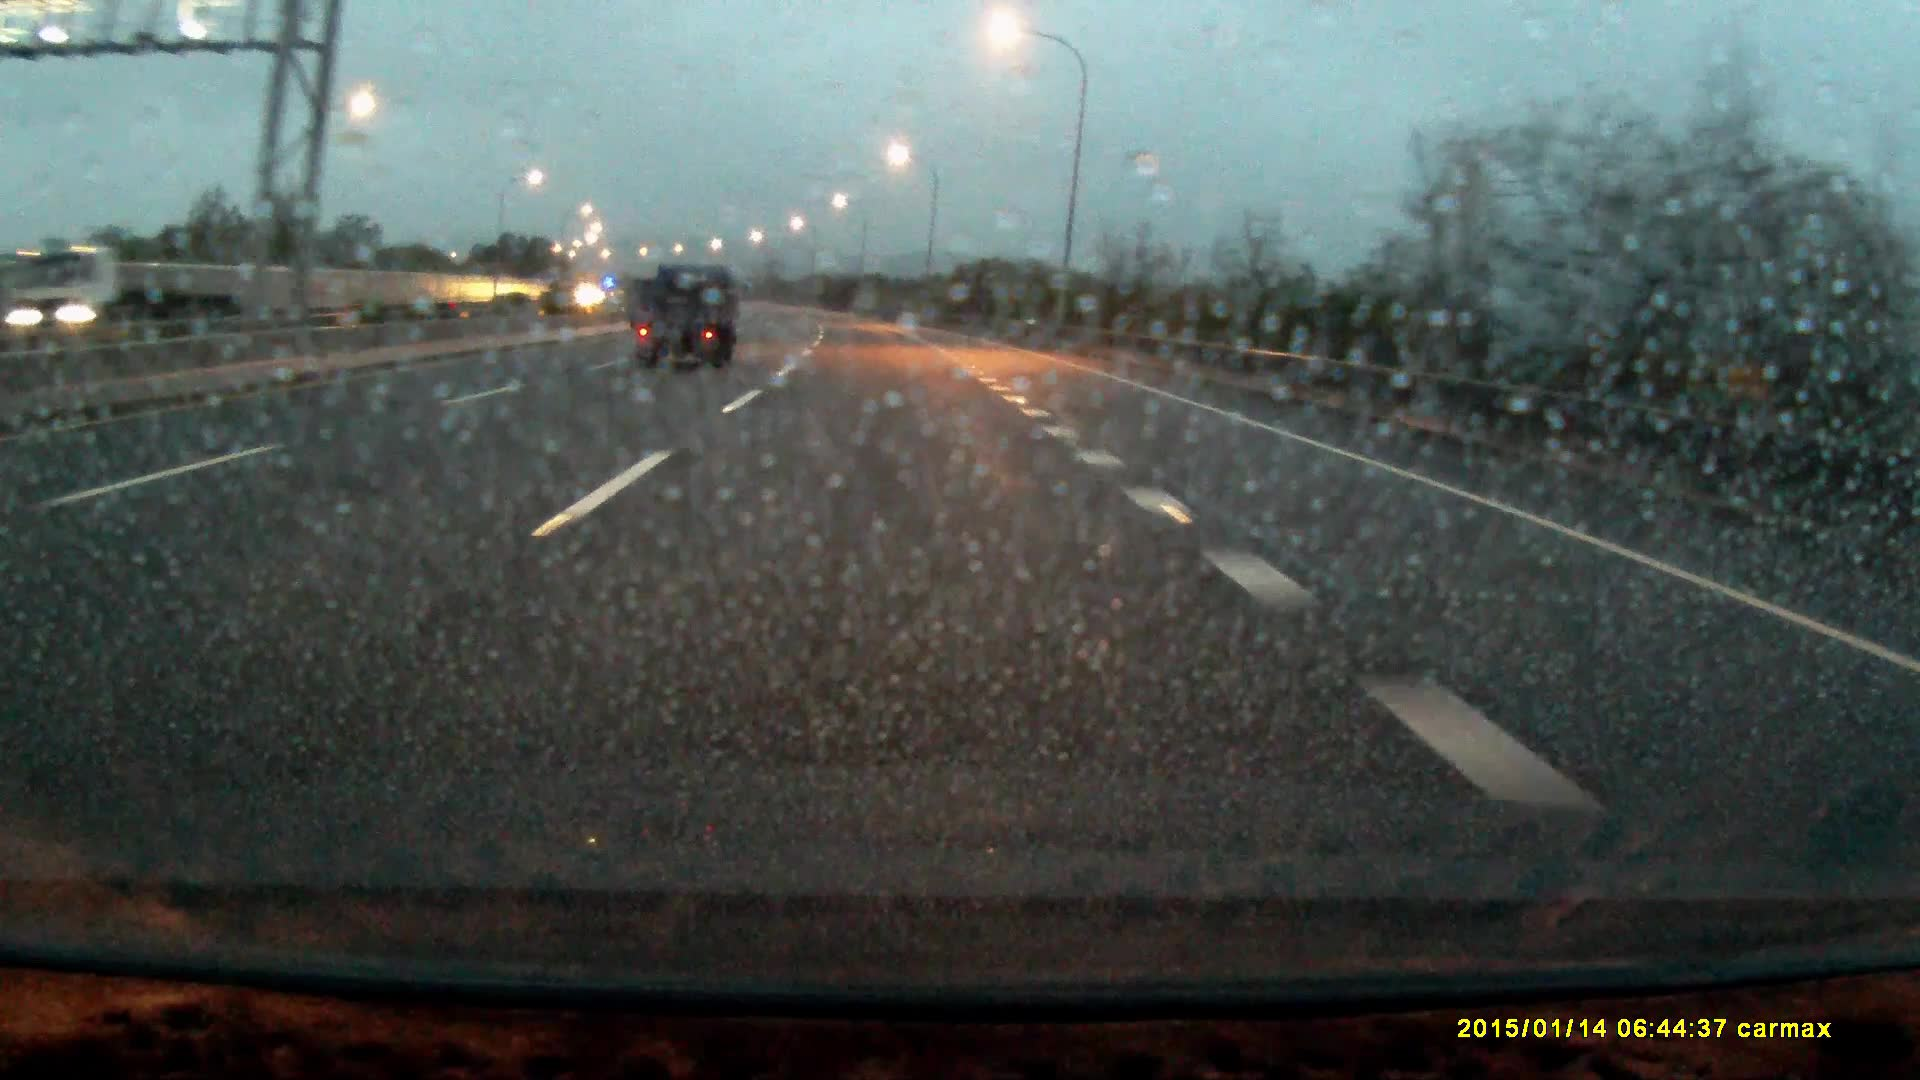vehicle: (22, 251, 251, 326), (634, 262, 741, 372)
